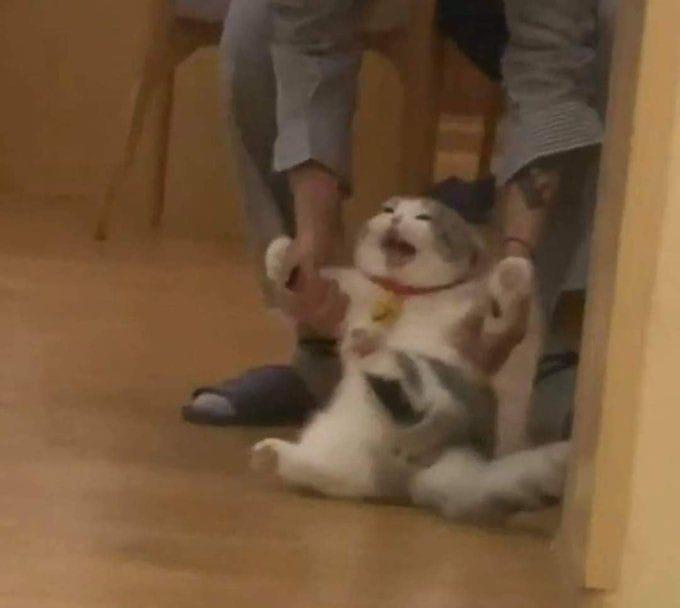kedo: (254, 196, 566, 520)
